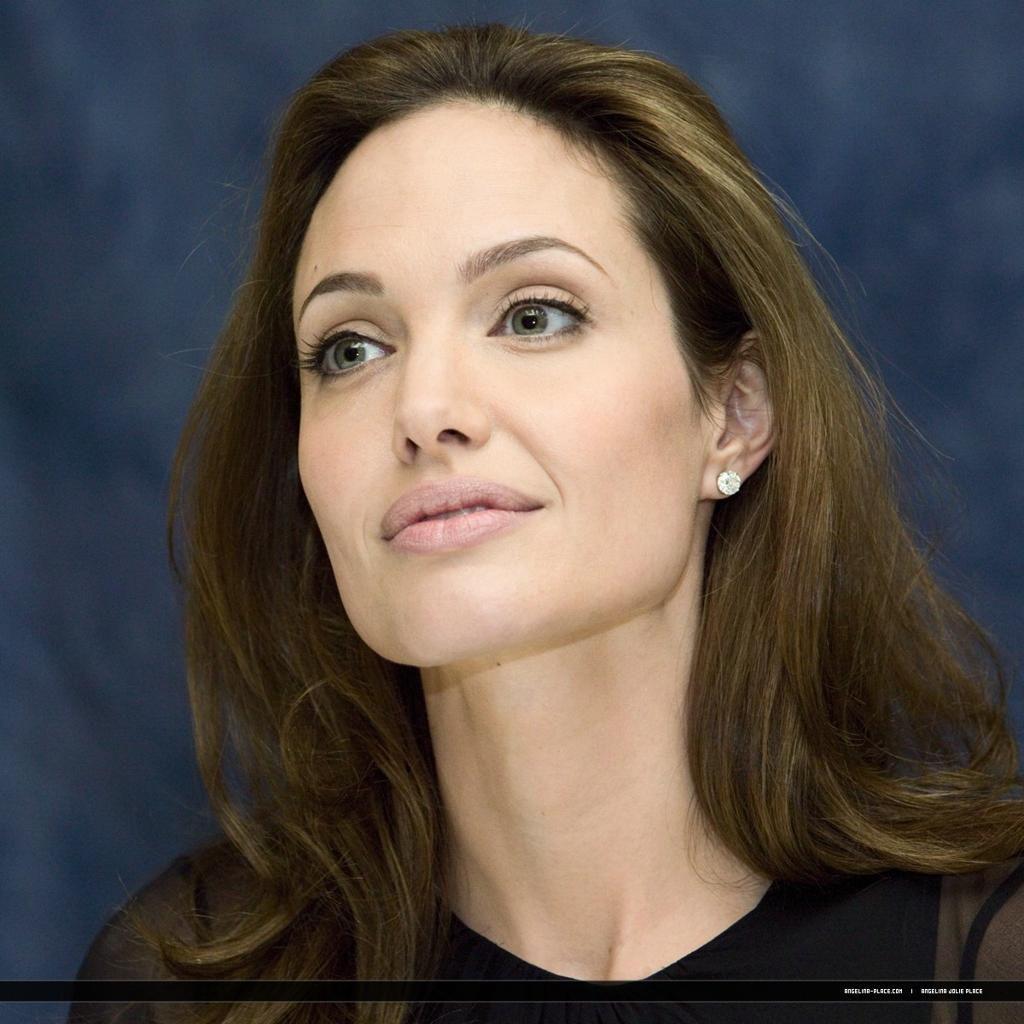face: (297, 125, 697, 667)
